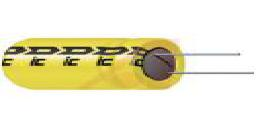Electrolytic-capacitor: (2, 38, 256, 92)
